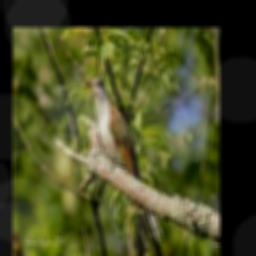Cuckoo: (86, 77, 162, 245)
